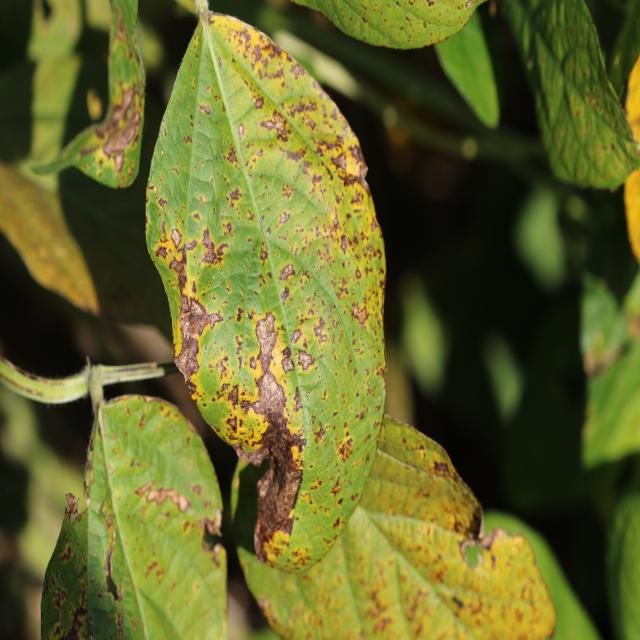Bacterial_Blight: (226, 21, 292, 81), (176, 291, 216, 383), (101, 89, 140, 161), (267, 457, 302, 518), (258, 302, 283, 373), (101, 500, 119, 593), (200, 225, 229, 267), (60, 598, 88, 640), (142, 483, 187, 509), (258, 107, 289, 140), (168, 248, 189, 292), (477, 526, 505, 553), (202, 514, 223, 543), (256, 466, 272, 502), (63, 491, 80, 517), (331, 149, 347, 174), (338, 437, 354, 462), (297, 349, 315, 371), (58, 541, 74, 564), (143, 559, 160, 580), (352, 304, 368, 326), (135, 479, 154, 497), (433, 459, 452, 476), (279, 264, 296, 282), (170, 228, 183, 249), (225, 145, 238, 166), (208, 311, 223, 326), (451, 594, 465, 610), (229, 186, 242, 203), (331, 476, 341, 497), (155, 243, 168, 259), (339, 236, 348, 254), (198, 104, 211, 116), (259, 247, 268, 263), (185, 239, 197, 251), (223, 221, 233, 235), (236, 307, 244, 323), (237, 123, 245, 138), (158, 197, 168, 209), (249, 356, 257, 370), (314, 325, 323, 337), (355, 268, 361, 279), (610, 142, 616, 151), (422, 21, 427, 29)
Soybean: (146, 13, 385, 569)
